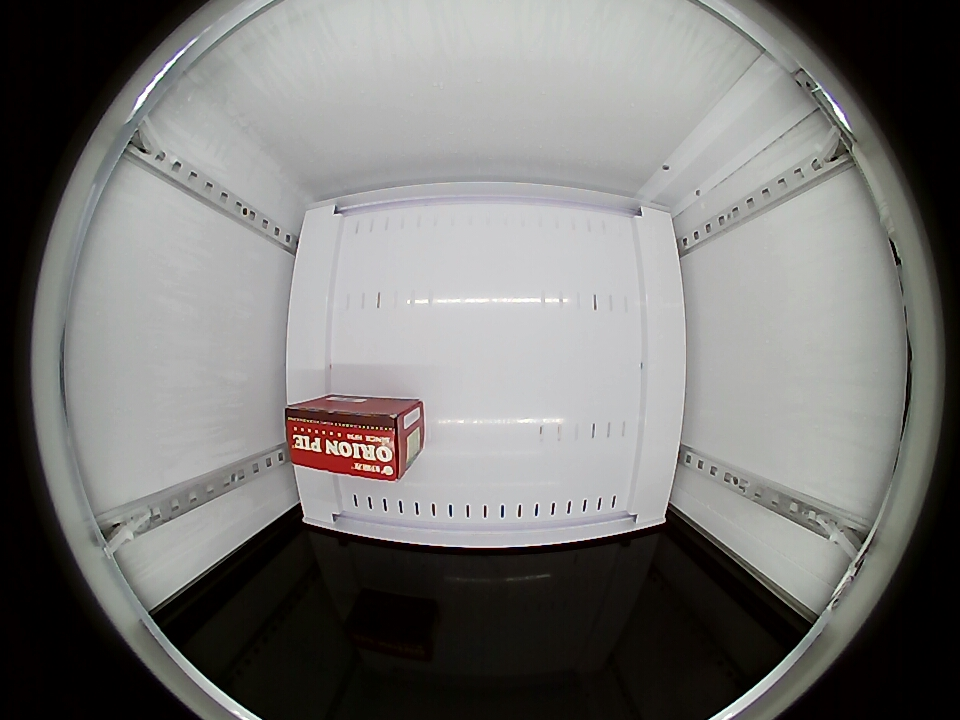haoliyou: (285, 397, 415, 482)
